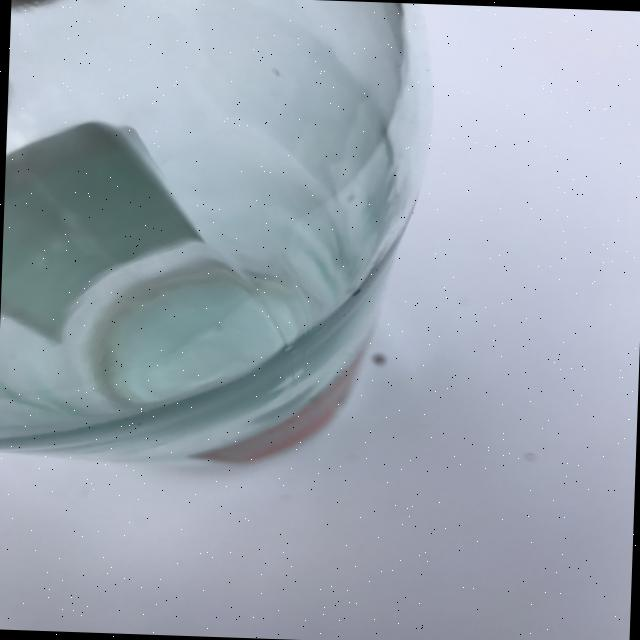glass: (0, 0, 437, 473)
